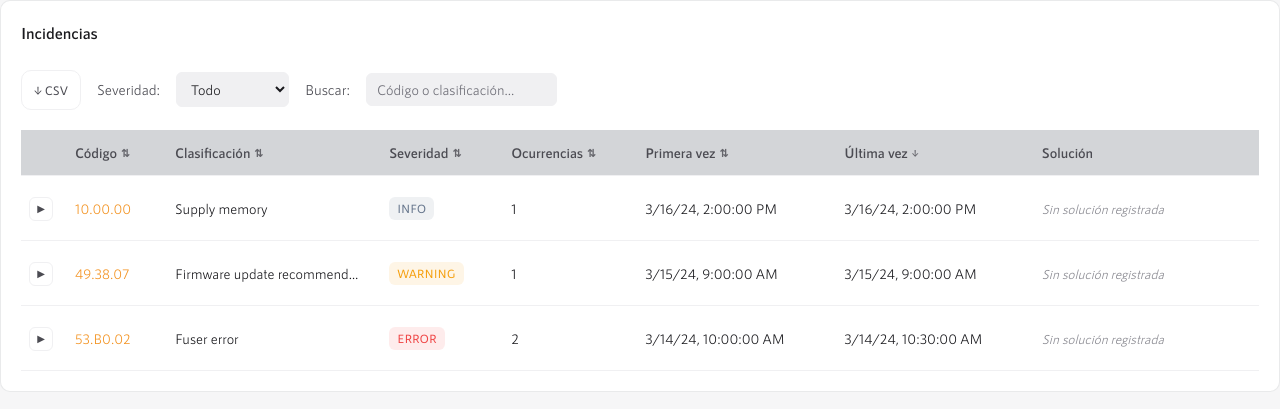
IncidentsTable › filtro por severidad ERROR muestra solo el incidente ERROR
This screenshot has width=1280, height=409.
Select "Error" in the dropdown named "Filtrar por severidad" at (233, 90), box [176, 72, 289, 107]
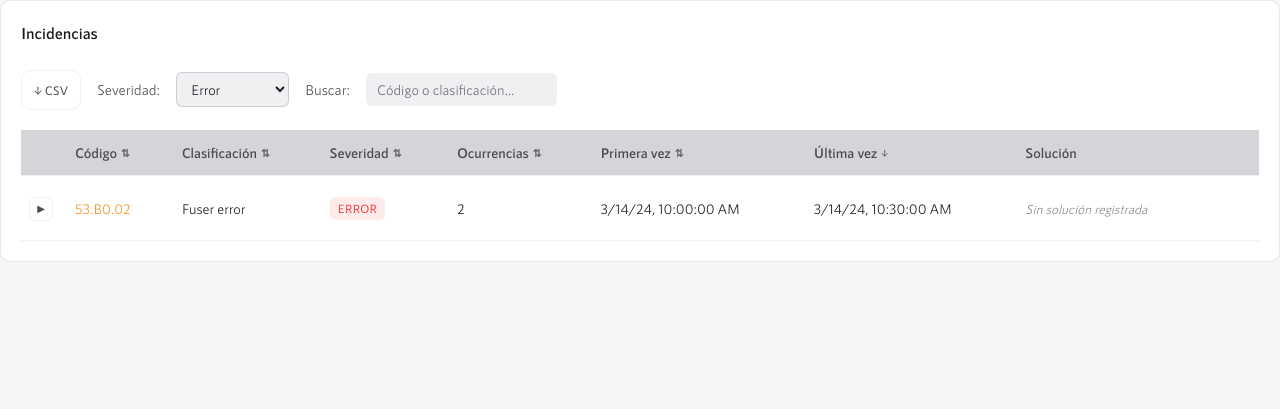
Expected: the button "53.B0.02" is shown, [75, 198, 131, 219]
Expected: the button "49.38.07" is gone
